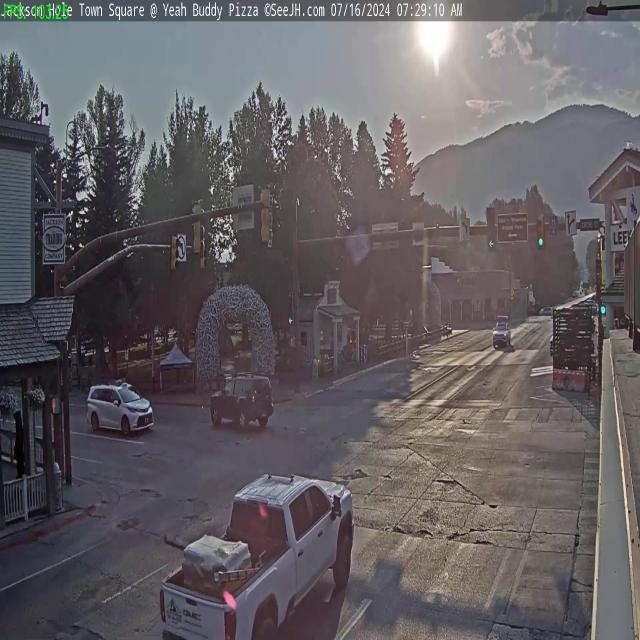pickup: (158, 468, 360, 640)
suv: (212, 368, 274, 436), (88, 376, 154, 438), (492, 315, 511, 348)
traffic light: (260, 184, 273, 244), (190, 200, 203, 256), (486, 206, 496, 250), (170, 234, 180, 275), (537, 214, 546, 248)
